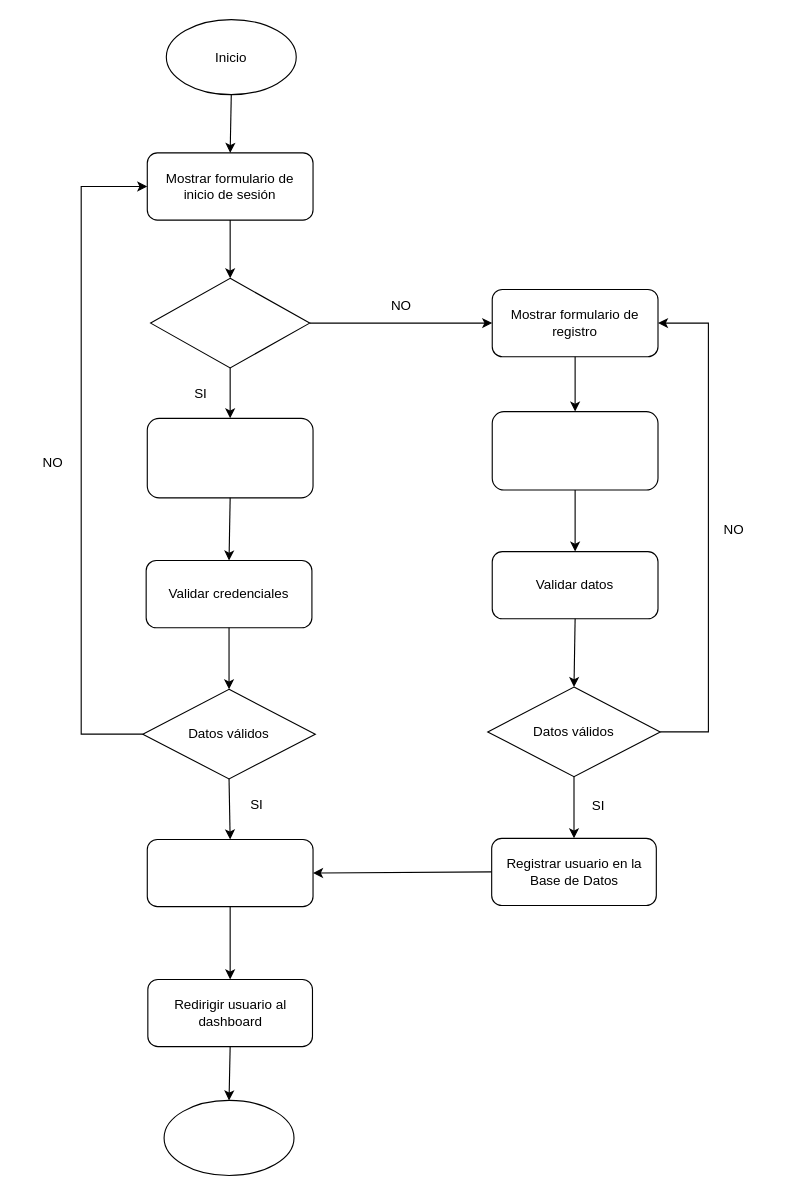
This 786x1195 diagram has some shape labels left out. The shapes that lost their labels are listed below. From the top down, each one's centre as x and y in pixels, then its label:
point 230,322: Tienes cuenta?
point 229,457: Usuario ingresa sus credenciales: - correo electrónico - contraseña
point 574,450: Usuario ingresa datos: - nombre - correo electrónico - contraseña
point 229,872: Autenticar usuario
point 228,1137: Fin
